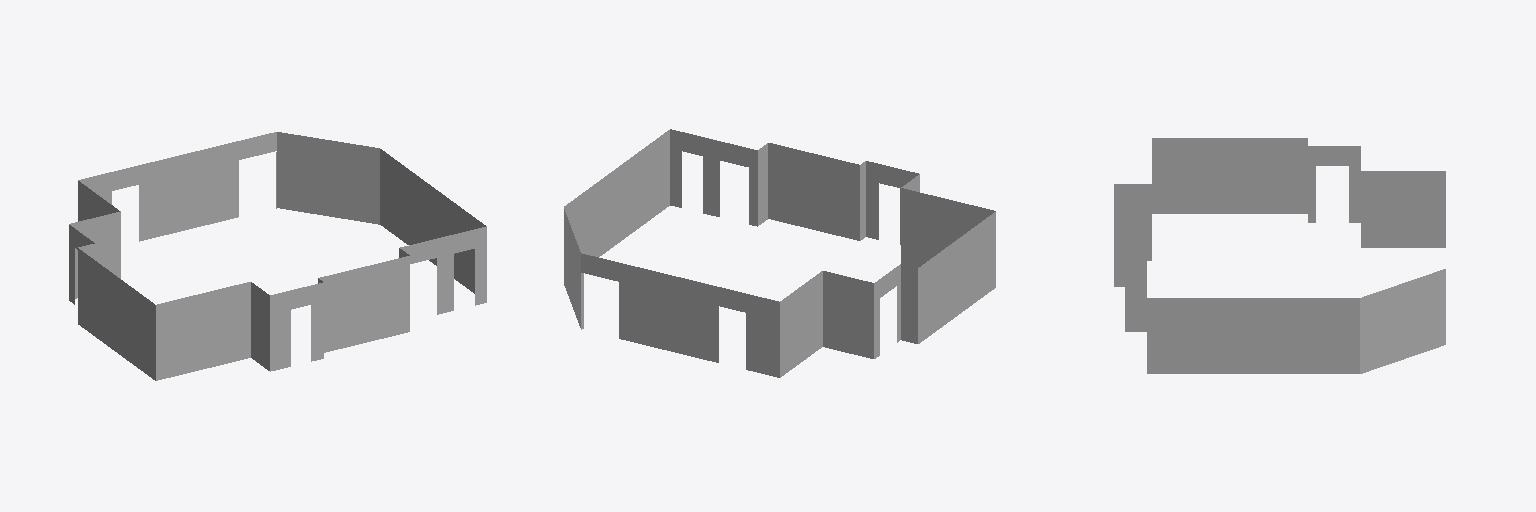
Rendered from outside_walls.obj.
3 renders of one model, left to right at view 1: azimuth 30°, elevation 25°; view 2: azimuth 150°, elevation 25°; view 3: azimuth 270°, elevation 25°, orthographic.
Visible parts, largest first — view 1: Cube.001; view 2: Cube.001; view 3: Cube.001.
Part boxes in pixels (x1,y1,x2,y2): Cube.001: (69,132,486,380); Cube.001: (564,129,995,377); Cube.001: (1114,138,1445,373).
Bounding box in the file's own units: 28.71 × 6.38 × 25.14.